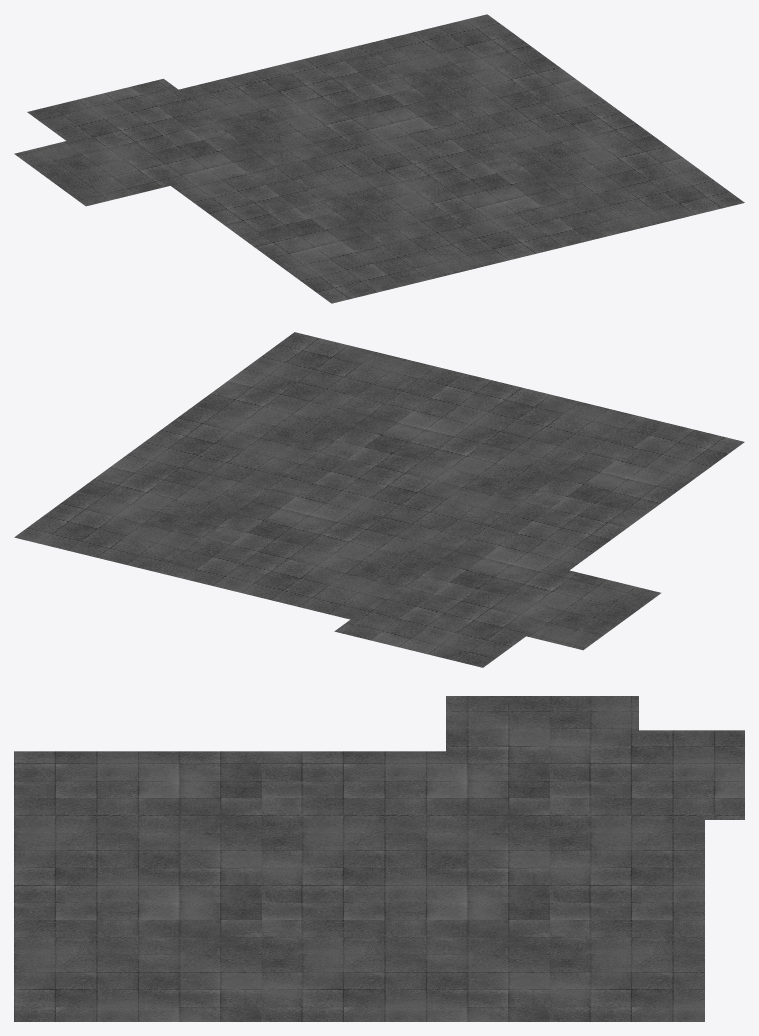
File: Telhado.glb
3 views of the same model, one above another, from view 1: azimuth 30°, elevation 25°; view 2: azimuth 150°, elevation 25°; view 3: azimuth 270°, elevation 25° (orthographic). The views are drawn at different scales.
Parts seen in each view (by area): view 1: Plane.006; view 2: Plane.006; view 3: Plane.006.
Boxes of the visible parts, left/top/right/bottom form: Plane.006: left=14, top=14, right=744, bottom=303; Plane.006: left=14, top=332, right=744, bottom=667; Plane.006: left=14, top=696, right=744, bottom=1021.
Bounding box in the file's own units: 34.94 × 0 × 33.12.
Materials: 1 (1 with a texture image).
